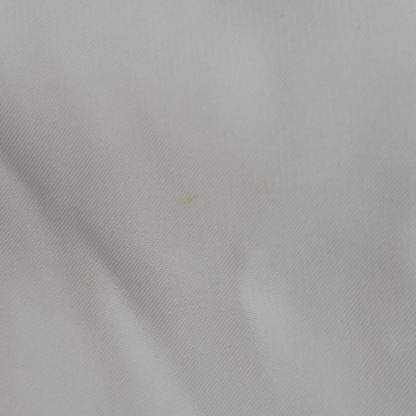spot: (172, 187, 200, 209)
